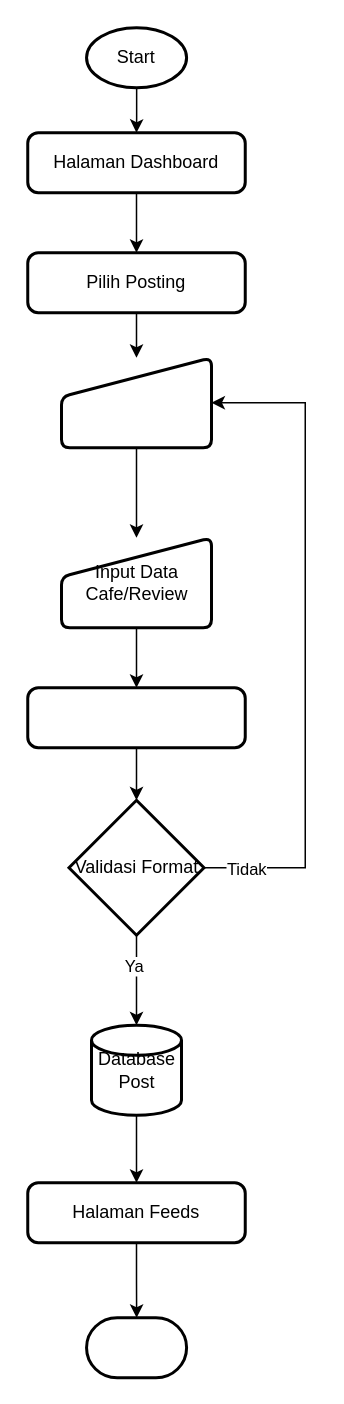
Image size: 344x1404. Some labels were removed from this diagram. Each missing label, with the centre of its shape:
"End" belongs at [135,1347].
"Upload" belongs at [136,717].
"Upload Photo" belongs at [135,402].
